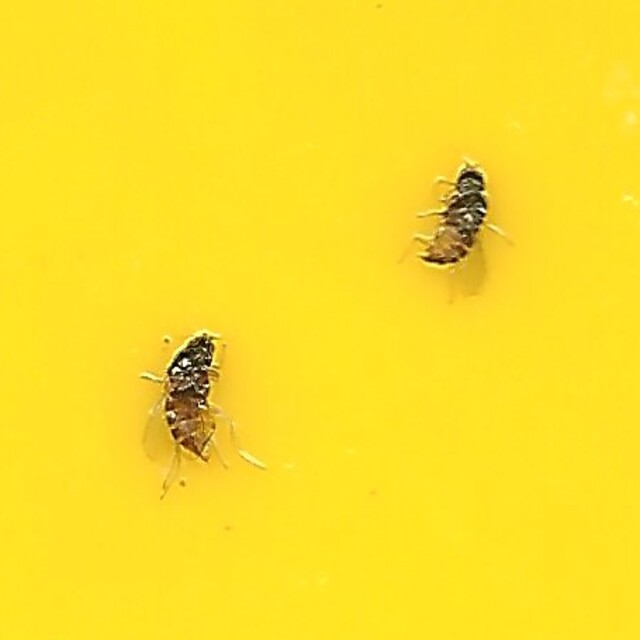Brachycera: (141, 322, 242, 481), (418, 159, 499, 295)
